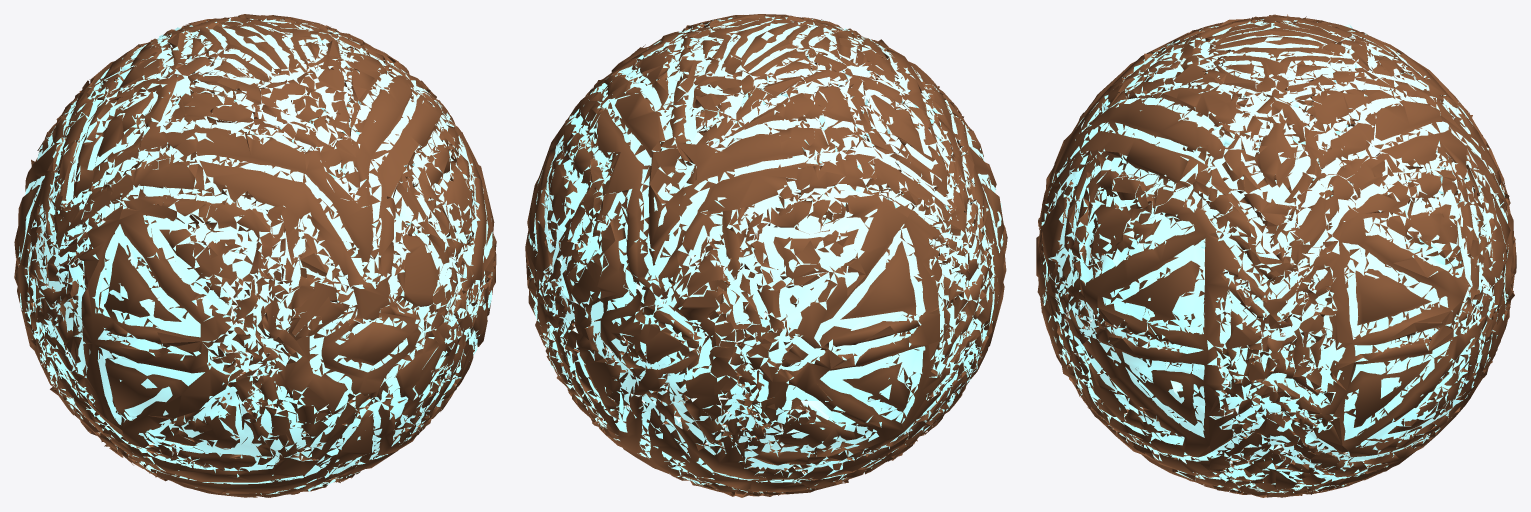
Rendered from mystical_orb_sculpt.glb.
3 renders of one model, left to right at view 1: azimuth 30°, elevation 25°; view 2: azimuth 150°, elevation 25°; view 3: azimuth 270°, elevation 25°, orthographic.
Visible parts, largest first — view 1: Cube_Material.001_0.001, Cube, Cube.001_Material_0.001, Cube.001, Cube_Material.001_0.002, Cube.001_Material_0.002; view 2: Cube_Material.001_0.001, Cube, Cube.001_Material_0.001, Cube.001, Cube.001_Material_0.002, Cube_Material.001_0.002; view 3: Cube, Cube_Material.001_0.001, Cube.001_Material_0.001, Cube.001, Cube_Material.001_0.002, Cube.001_Material_0.002.
Boxes of the visible parts, x1,y1,x2,y2 form: Cube_Material.001_0.001: (31,14,478,497); Cube: (14,59,496,470); Cube.001_Material_0.001: (18,18,493,494); Cube.001: (40,27,487,491); Cube_Material.001_0.002: (26,15,493,497); Cube.001_Material_0.002: (20,18,492,492); Cube_Material.001_0.001: (539,14,971,497); Cube: (525,51,1007,487); Cube.001_Material_0.001: (528,16,1003,492); Cube.001: (536,28,982,493); Cube.001_Material_0.002: (528,16,1001,491); Cube_Material.001_0.002: (536,14,994,496); Cube: (1048,22,1490,491); Cube_Material.001_0.001: (1038,14,1516,497); Cube.001_Material_0.001: (1041,19,1502,492); Cube.001: (1041,24,1508,493); Cube_Material.001_0.002: (1036,14,1515,496); Cube.001_Material_0.002: (1040,23,1508,488).
Size of the model in its own units: 173 by 172 by 171.
